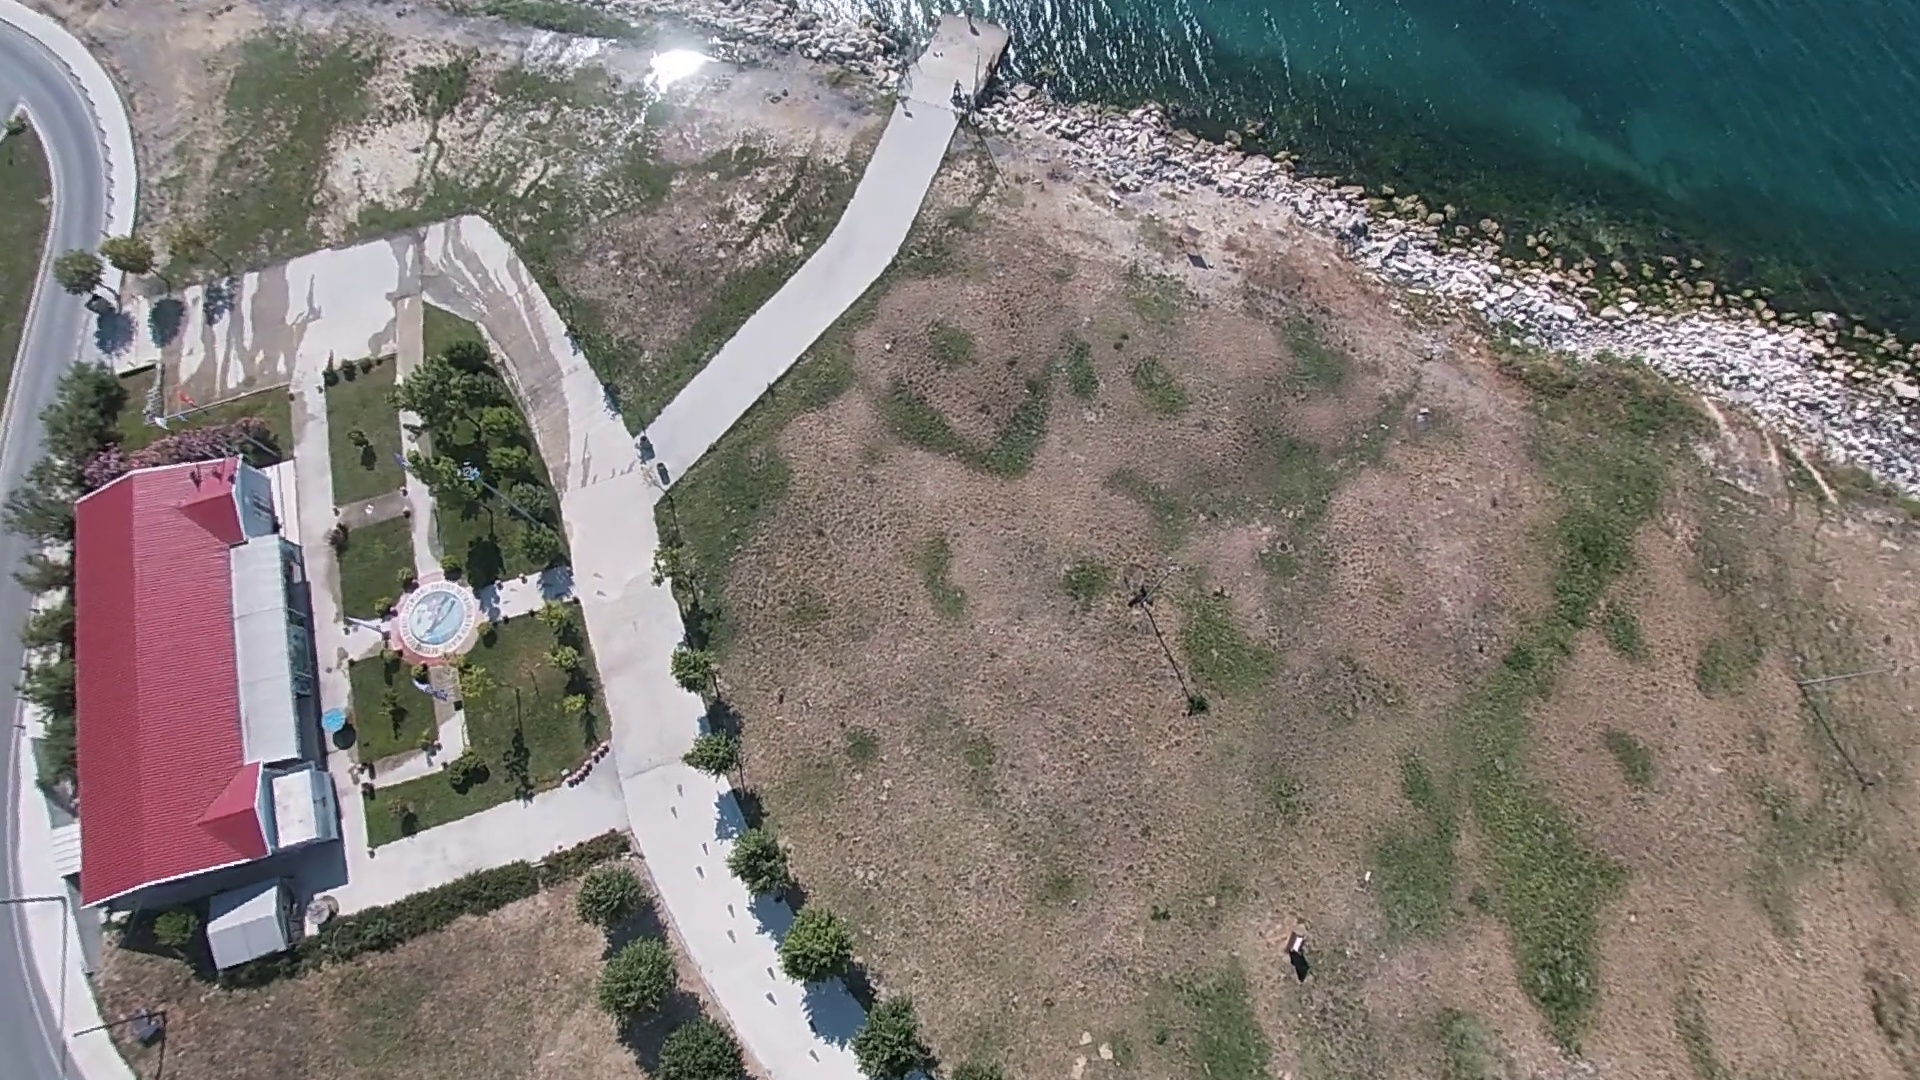insan: (949, 77, 966, 105), (962, 5, 980, 34)
